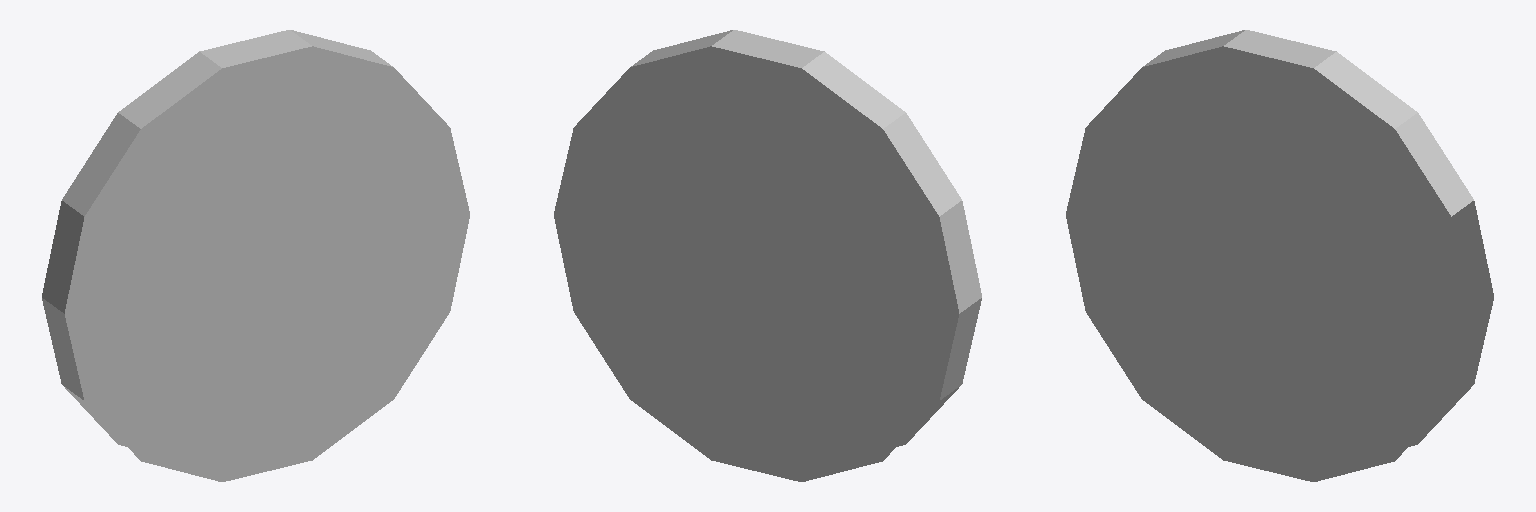
File: city_lavanderia3.obj
3 views of the same model, side by side, from view 1: azimuth 30°, elevation 25°; view 2: azimuth 150°, elevation 25°; view 3: azimuth 330°, elevation 25° (orthographic).
Parts seen in each view (by area): view 1: pasted__pCylinder8; view 2: pasted__pCylinder8; view 3: pasted__pCylinder8.
Part boxes in pixels (x1,y1,x2,y2): pasted__pCylinder8: (42,30,469,481); pasted__pCylinder8: (554,30,981,481); pasted__pCylinder8: (1066,30,1493,481).
Bounding box in the file's own units: 4.28 × 4.17 × 0.4184.